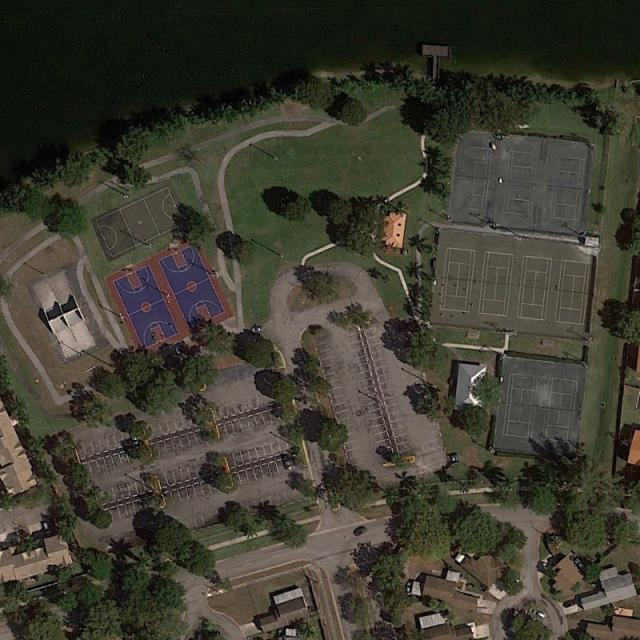vehicle: (354, 527, 366, 538), (533, 609, 546, 618), (132, 438, 140, 451), (284, 458, 292, 470), (43, 522, 51, 534), (252, 326, 265, 333), (406, 582, 413, 594)
